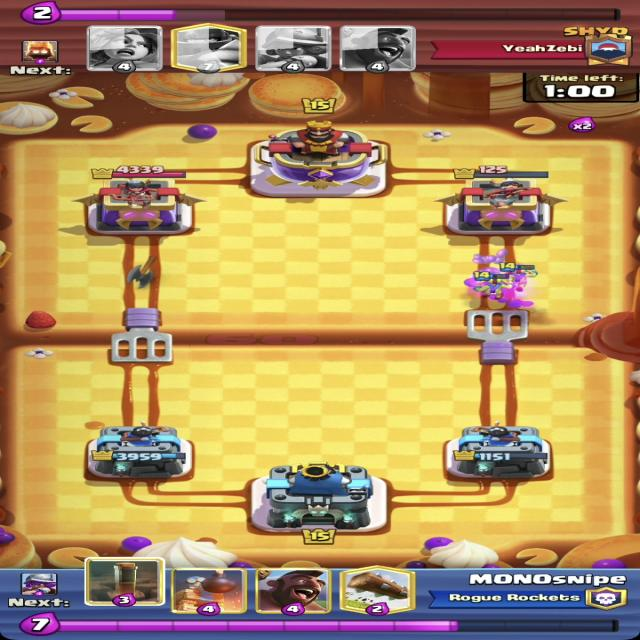Player-Goblin: (496, 261, 540, 293), (468, 271, 513, 300)
